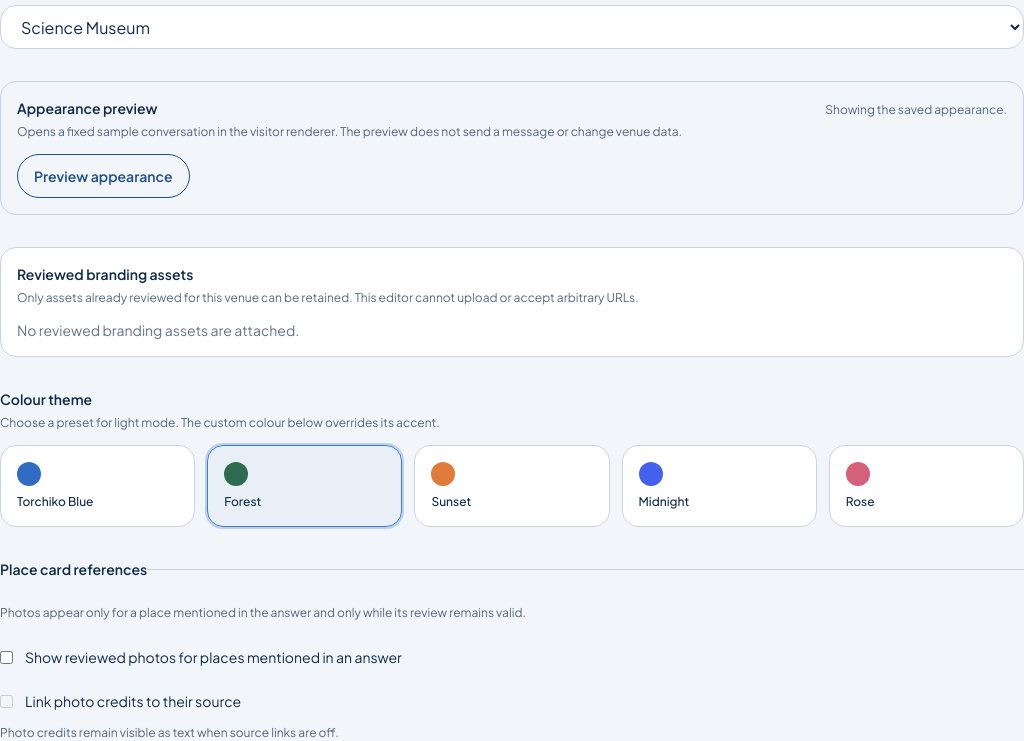
Test: ChatDesignForm › offers the selected venue visitor guide only after a successful save
Expected: the link "Open saved visitor guide" is not shown
Click the button "Sunset" at point(512, 486), box [414, 445, 610, 527]
(page scrolled)
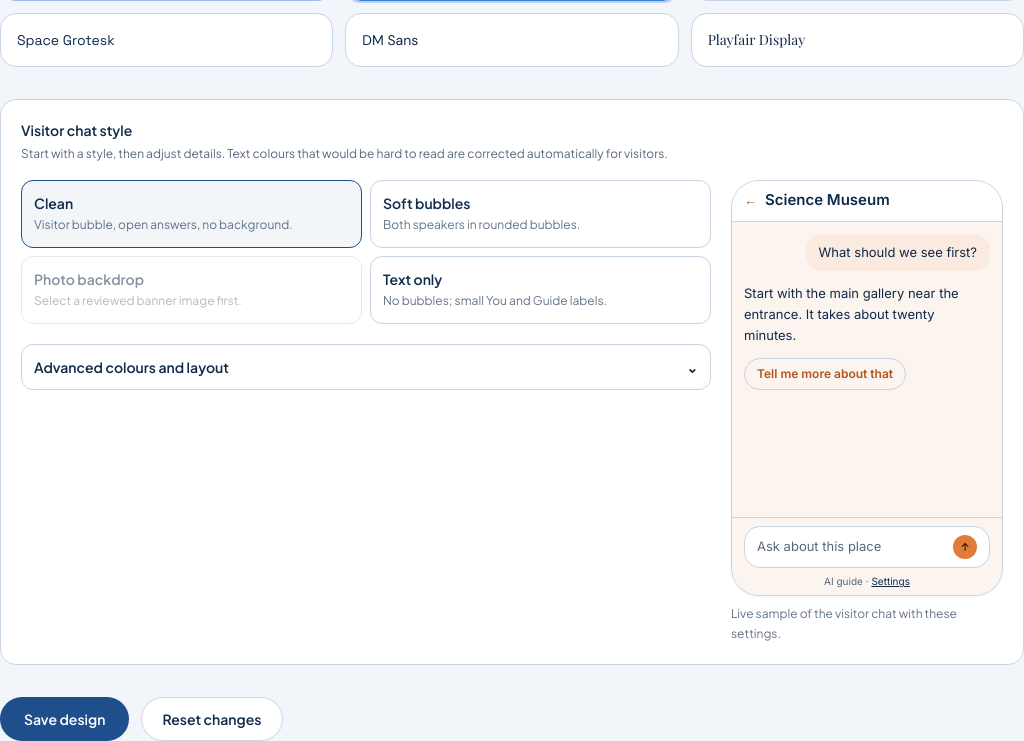
Click the button "Save design" at point(65, 719), box [0, 697, 129, 740]
(page scrolled)
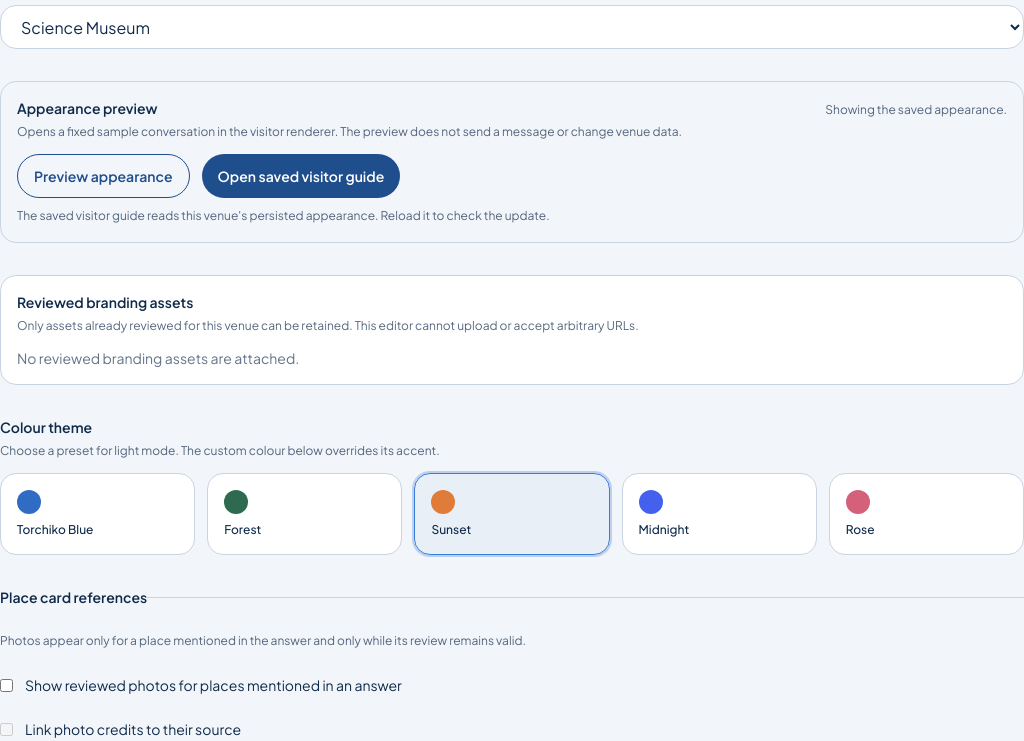
Expected: the text "persisted appearance" is shown, [17, 208, 550, 223]
